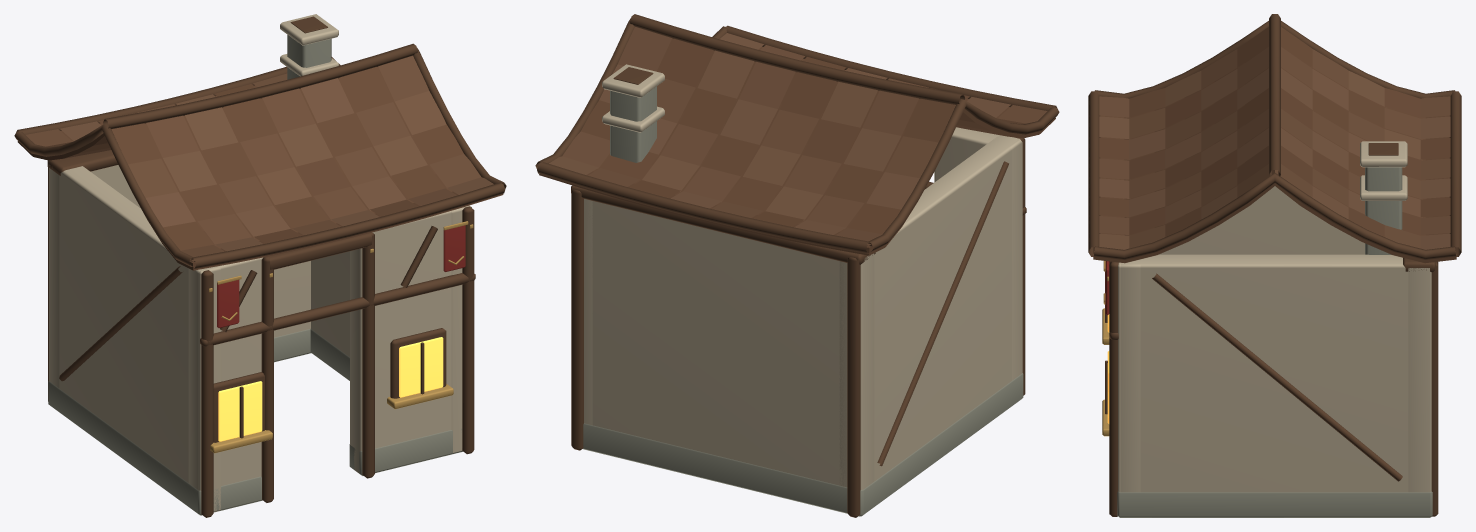
File: architecture-homestead.glb
The picture shows the model from 3 angles, left to right: view 1: azimuth 30°, elevation 25°; view 2: azimuth 150°, elevation 25°; view 3: azimuth 270°, elevation 25°; orthographic projection. The views are drawn at different scales.
Visible parts, largest first — view 1: architecture-homestead-exterior; view 2: architecture-homestead-exterior; view 3: architecture-homestead-exterior.
Boxes of the visible parts, x1,y1,x2,y2 form: architecture-homestead-exterior: (14,14,506,517); architecture-homestead-exterior: (535,14,1059,517); architecture-homestead-exterior: (1088,14,1461,517).
Size of the model in its own units: 4.07 by 4.23 by 4.
